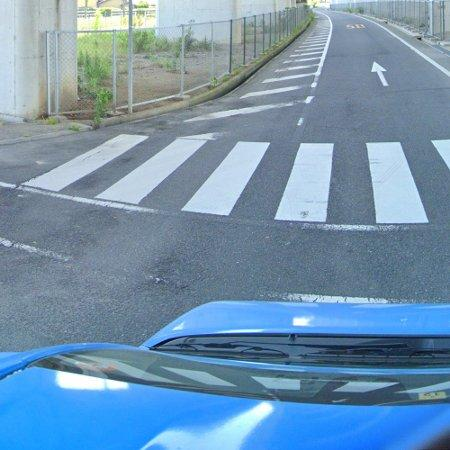crosswalks: (22, 133, 450, 223)
